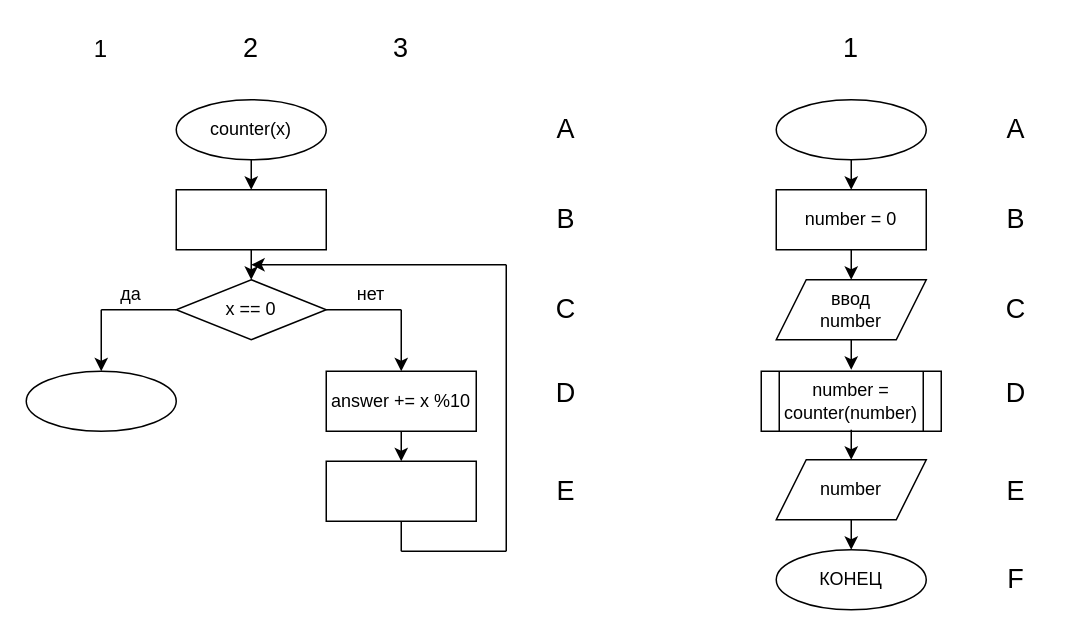
Image size: 1088x636. Some labels were removed from this diagram. The centre of each missing label's shape, as x and y in pixels:
"answer = 0" belongs at point 250,219.
"return answer" belongs at point 100,400.
"x /= 10" belongs at point 400,490.
"НАЧАЛО" belongs at point 850,129.
